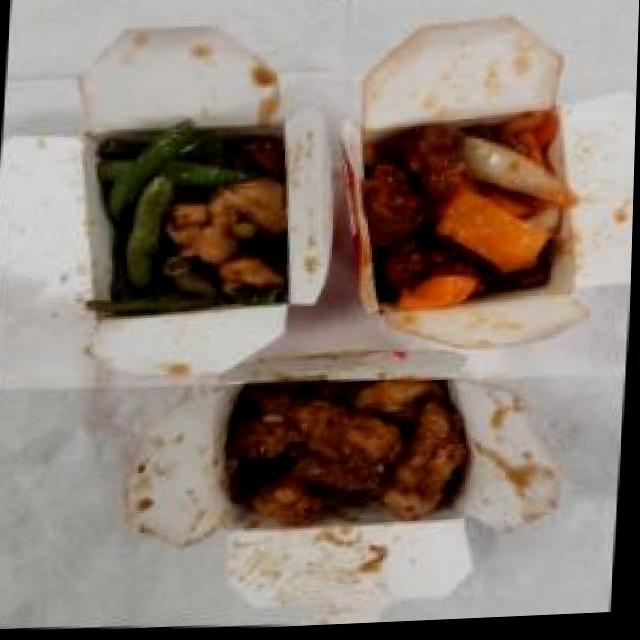Beijing Beef: (352, 110, 577, 322)
String Bean Chicken Breast: (85, 114, 300, 322)
The Original Orange Chicken: (229, 373, 471, 537)
